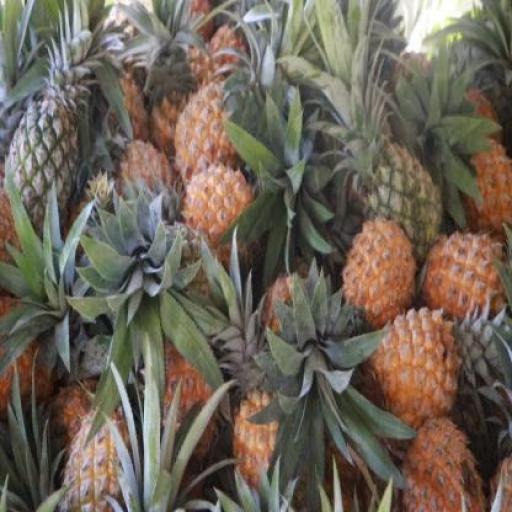Pineapple - v8 v1: (372, 302, 458, 424), (344, 214, 420, 328), (422, 232, 505, 329), (173, 82, 244, 184), (183, 169, 256, 257)
